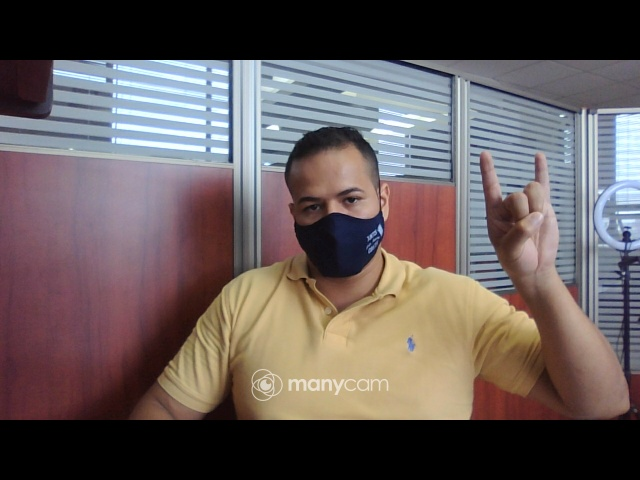I Love You: (478, 147, 562, 284)
